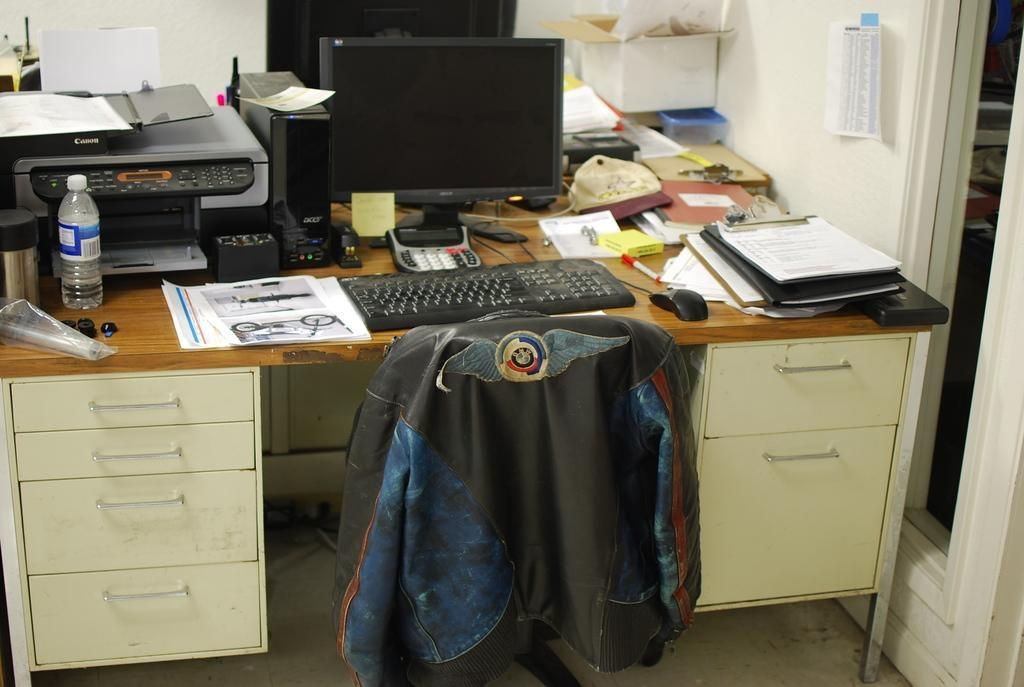AIO PC-Monitor-TV: (317, 36, 566, 243)
Filing Cabinet: (0, 364, 270, 672), (690, 332, 917, 611)
Printer: (0, 102, 279, 286)
